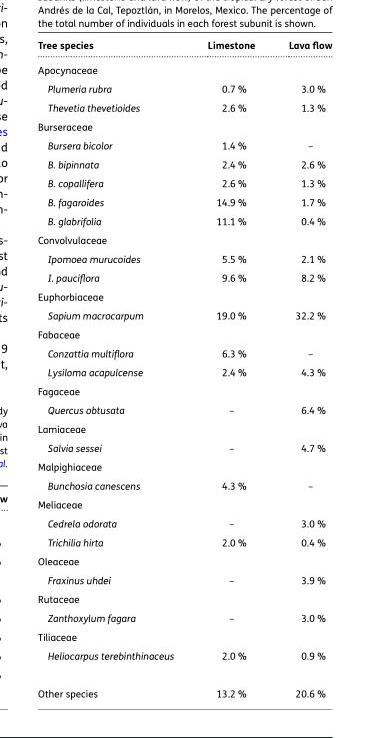table: (37, 36, 331, 699)
table column: (37, 36, 190, 699), (190, 36, 271, 699), (271, 36, 331, 699)
table column header: (37, 36, 331, 56)
table projected row header: (37, 56, 331, 78), (37, 116, 331, 135), (37, 229, 331, 248), (37, 286, 331, 305), (37, 324, 331, 343), (37, 418, 331, 437), (37, 456, 331, 475), (37, 494, 331, 513), (37, 551, 331, 570), (37, 626, 331, 645), (37, 381, 331, 399), (37, 589, 331, 607)
table row: (37, 645, 331, 674), (37, 674, 331, 699), (37, 56, 331, 78), (37, 36, 331, 56), (37, 78, 331, 97), (37, 97, 331, 116), (37, 116, 331, 135), (37, 135, 331, 154), (37, 154, 331, 173), (37, 173, 331, 192), (37, 210, 331, 229), (37, 229, 331, 248), (37, 248, 331, 267), (37, 267, 331, 286), (37, 286, 331, 305), (37, 305, 331, 324), (37, 324, 331, 343), (37, 343, 331, 362), (37, 362, 331, 381), (37, 399, 331, 418), (37, 418, 331, 437), (37, 437, 331, 456), (37, 456, 331, 475), (37, 475, 331, 494), (37, 494, 331, 513), (37, 513, 331, 532), (37, 532, 331, 551), (37, 551, 331, 570), (37, 570, 331, 589), (37, 607, 331, 626), (37, 626, 331, 645), (37, 192, 331, 210), (37, 381, 331, 399), (37, 589, 331, 607)
